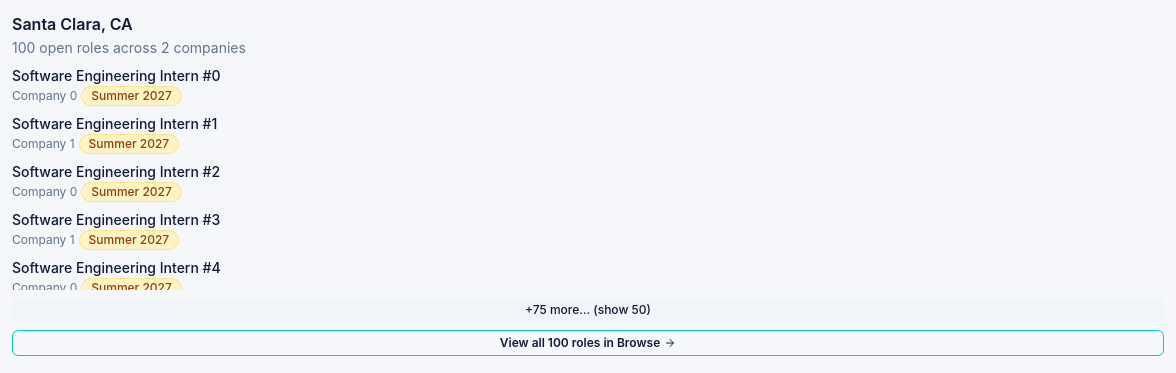
Test: Map popup "+X more" › initially shows 25 roles and reveals more when "+X more" is clicked
Expected: the link "Software Engineering Intern #0" is shown, [12,66,221,86]
Note: Click "+75 more…" → reveals the next 50 (through #74).
Step 1. Click the button "+75 more… (show 50)" → (588, 310), box [12,298,1164,322]
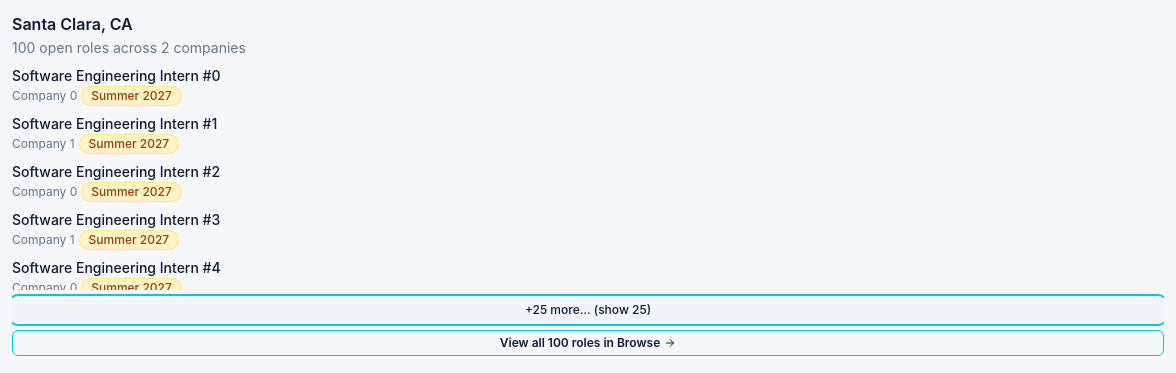
Note: Click again (+25 more) → all 100 roles visible.
Step 2. Click the button "+25 more… (show 25)" → (588, 310), box [12,298,1164,322]
(page scrolled)
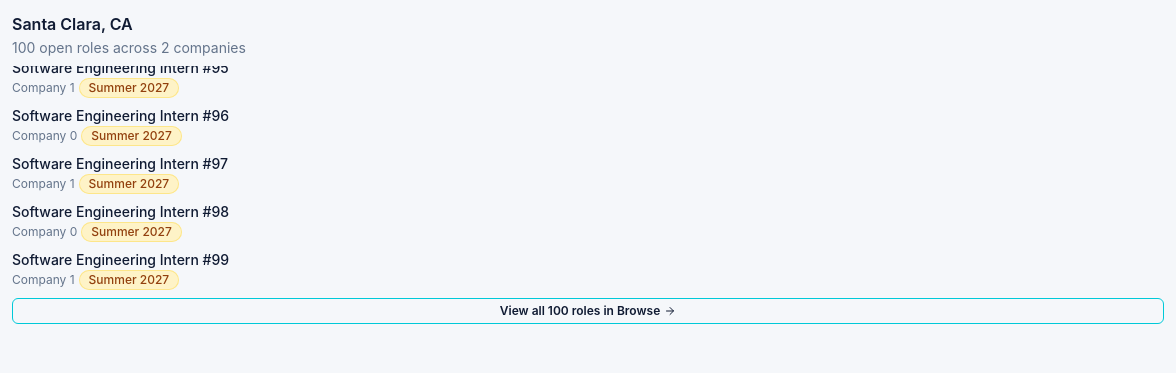
Expected: the link "Software Engineering Intern #99" is shown, [12,250,229,270]
Expected: the button "more" is gone
